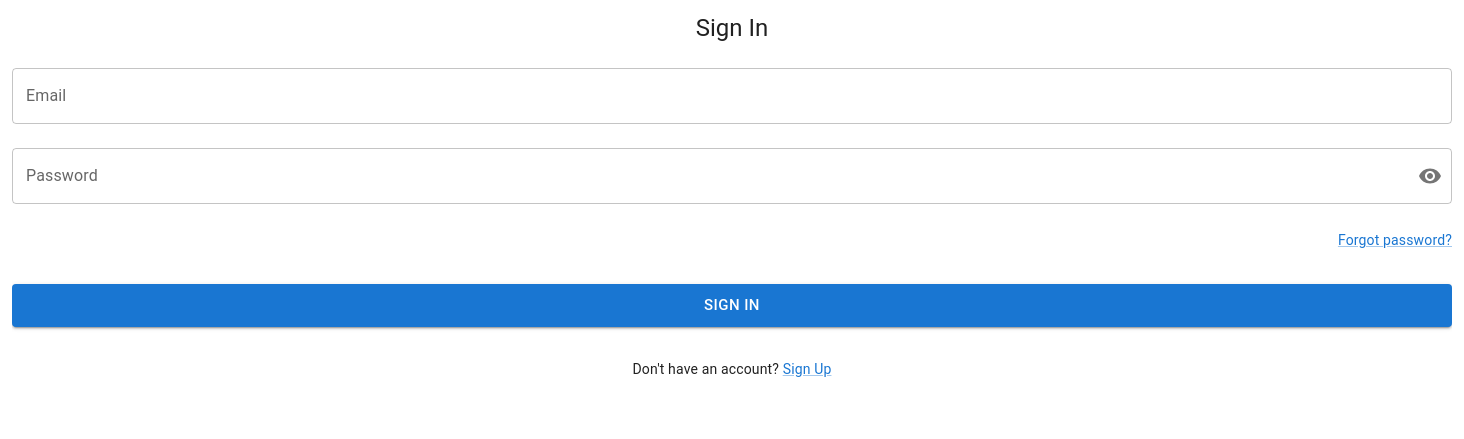
Login Component › validates form inputs
This screenshot has width=1464, height=439.
Submit the form without filling in any fields
Click the button "Sign In" at (732, 306), box [12,284,1452,327]
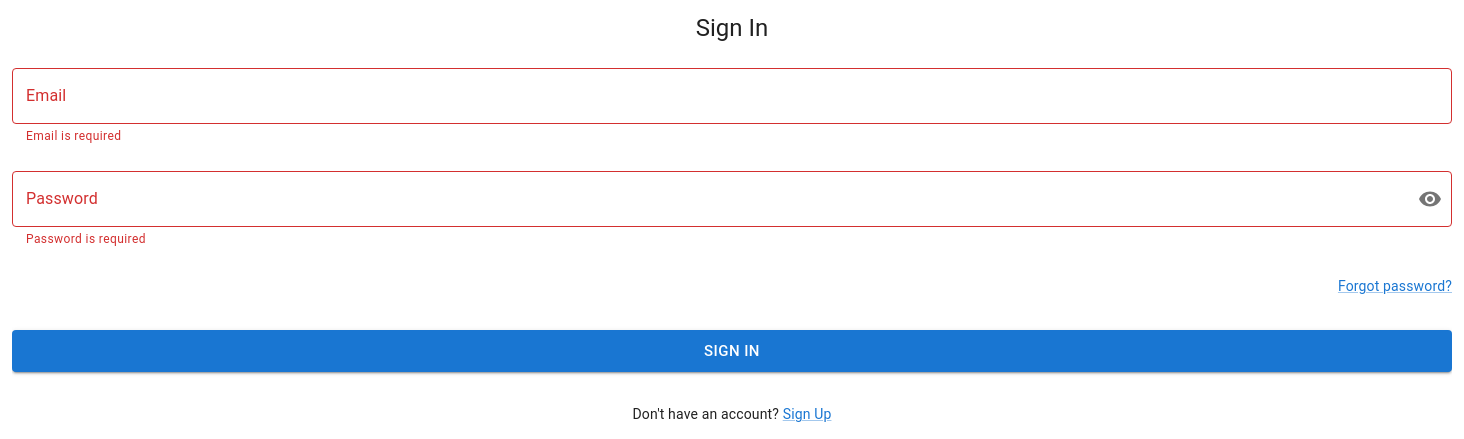
expect the text "Email is required" is shown: met, box [26,129,121,143]
expect the text "Password is required" is shown: met, box [26,232,146,246]
Fill in invalid email
Type "invalid-email" into the field labelled "Email" at (732, 96), box [12,68,1452,124]
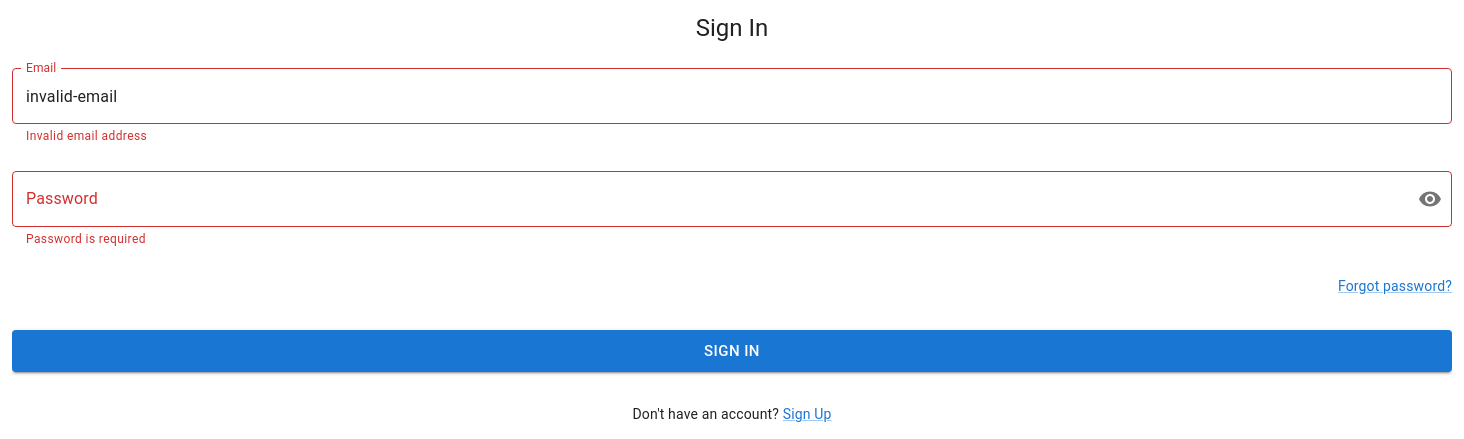
expect the text "Invalid email address" is shown: met, box [26,129,147,143]
